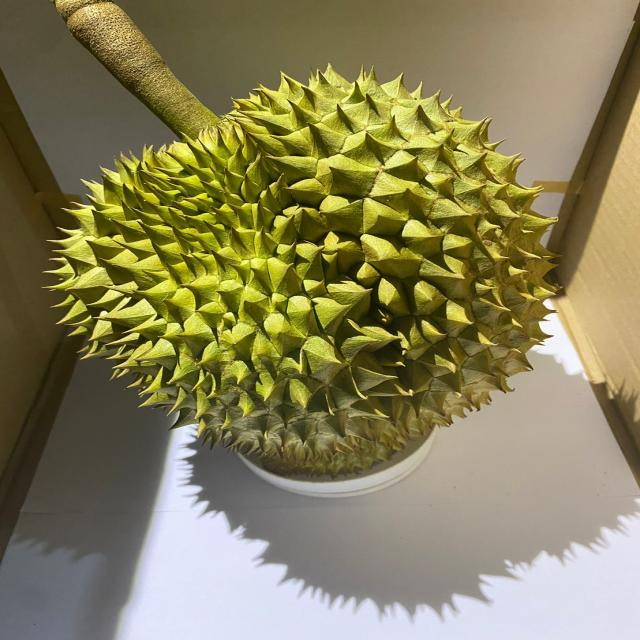immature: (39, 60, 560, 480)
